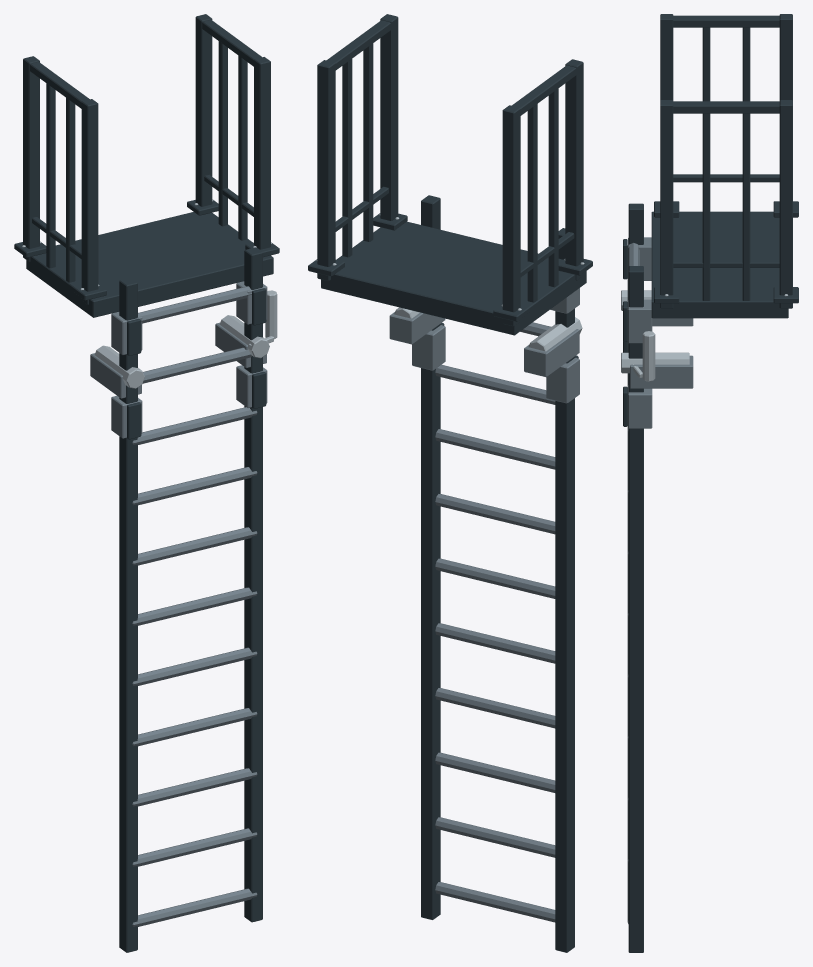
Rendered from b12_fire_escape_drop_ladder.glb.
3 views of the same model, side by side, from view 1: azimuth 30°, elevation 25°; view 2: azimuth 150°, elevation 25°; view 3: azimuth 270°, elevation 25° (orthographic). The views are drawn at different scales.
Parts seen in each view (by area): view 1: b12_fire_escape_drop_ladder; view 2: b12_fire_escape_drop_ladder; view 3: b12_fire_escape_drop_ladder.
Boxes of the visible parts, x1,y1,x2,y2 form: b12_fire_escape_drop_ladder: [14, 14, 279, 952]; b12_fire_escape_drop_ladder: [308, 14, 592, 952]; b12_fire_escape_drop_ladder: [621, 14, 798, 952].
Size of the model in its own units: 0.905 by 3.73 by 0.7.
